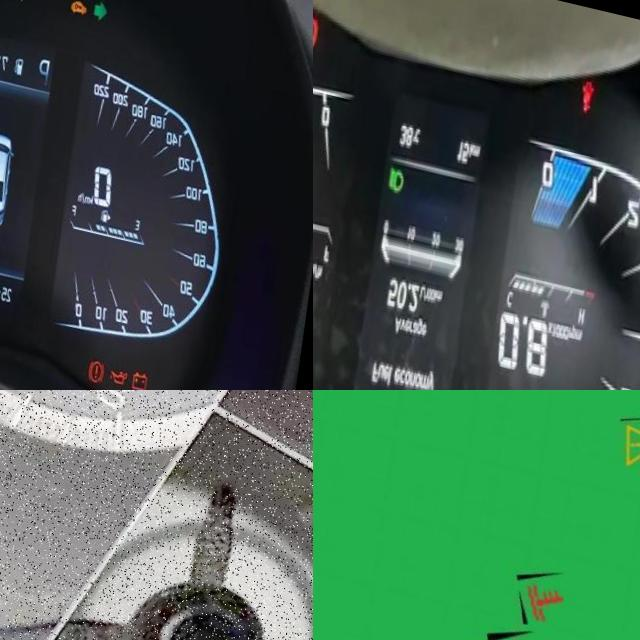Seat Belt: (581, 57, 601, 93)
